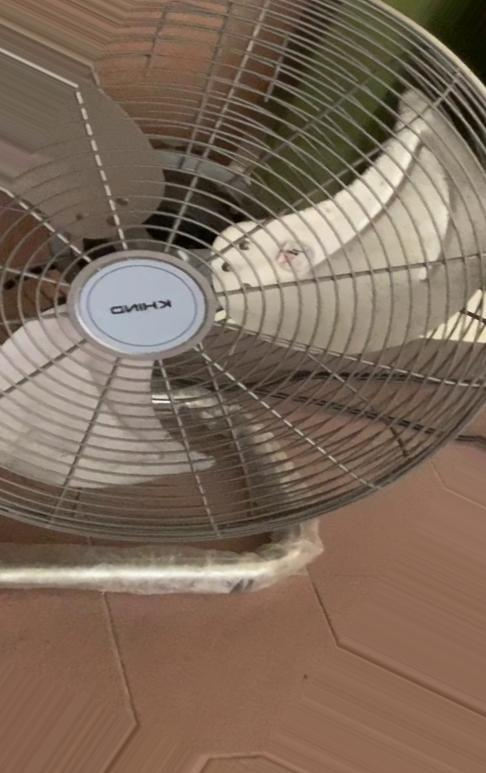fan: (0, 0, 484, 609)
